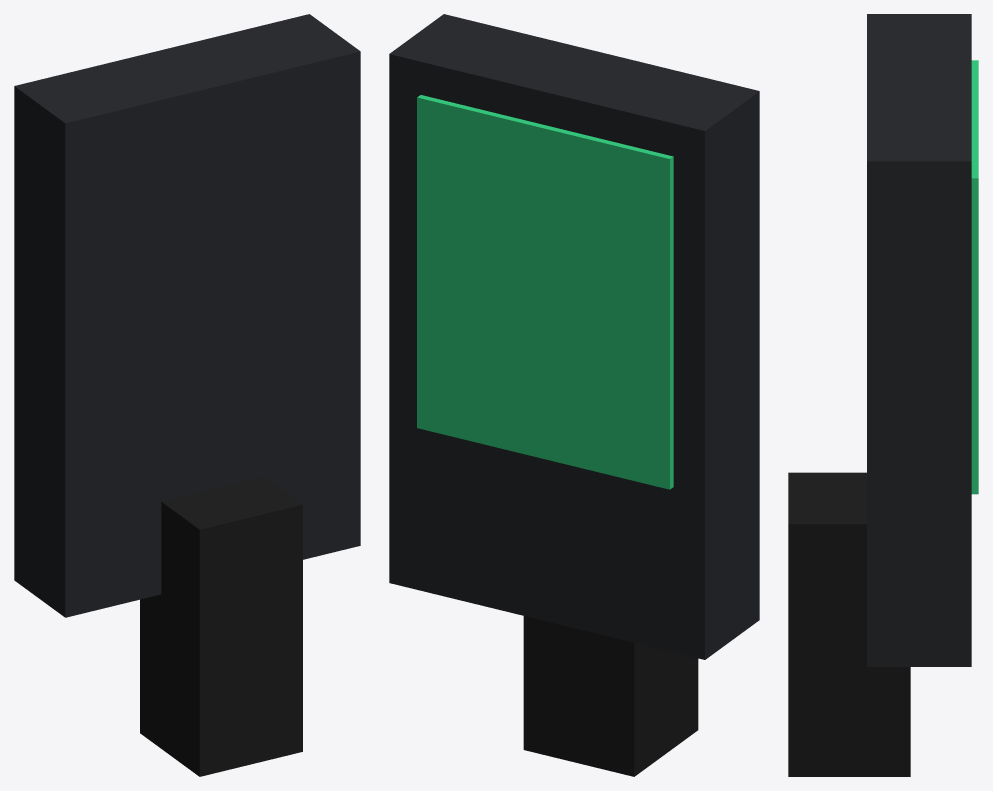
The model's file is pulse_sensor.glb.
3 renders of one model, left to right at view 1: azimuth 30°, elevation 25°; view 2: azimuth 150°, elevation 25°; view 3: azimuth 270°, elevation 25°, orthographic. The views are drawn at different scales.
Visible parts, largest first — view 1: body; view 2: body, body_glow; view 3: body, body_glow.
Boxes of the visible parts, <box> form: body: <box>14,14,360,776</box>; body: <box>389,14,759,776</box>; body_glow: <box>417,95,673,489</box>; body: <box>788,14,971,776</box>; body_glow: <box>971,60,978,494</box>.
Bounding box in the file's own units: 0.1 × 0.21 × 0.0545.
